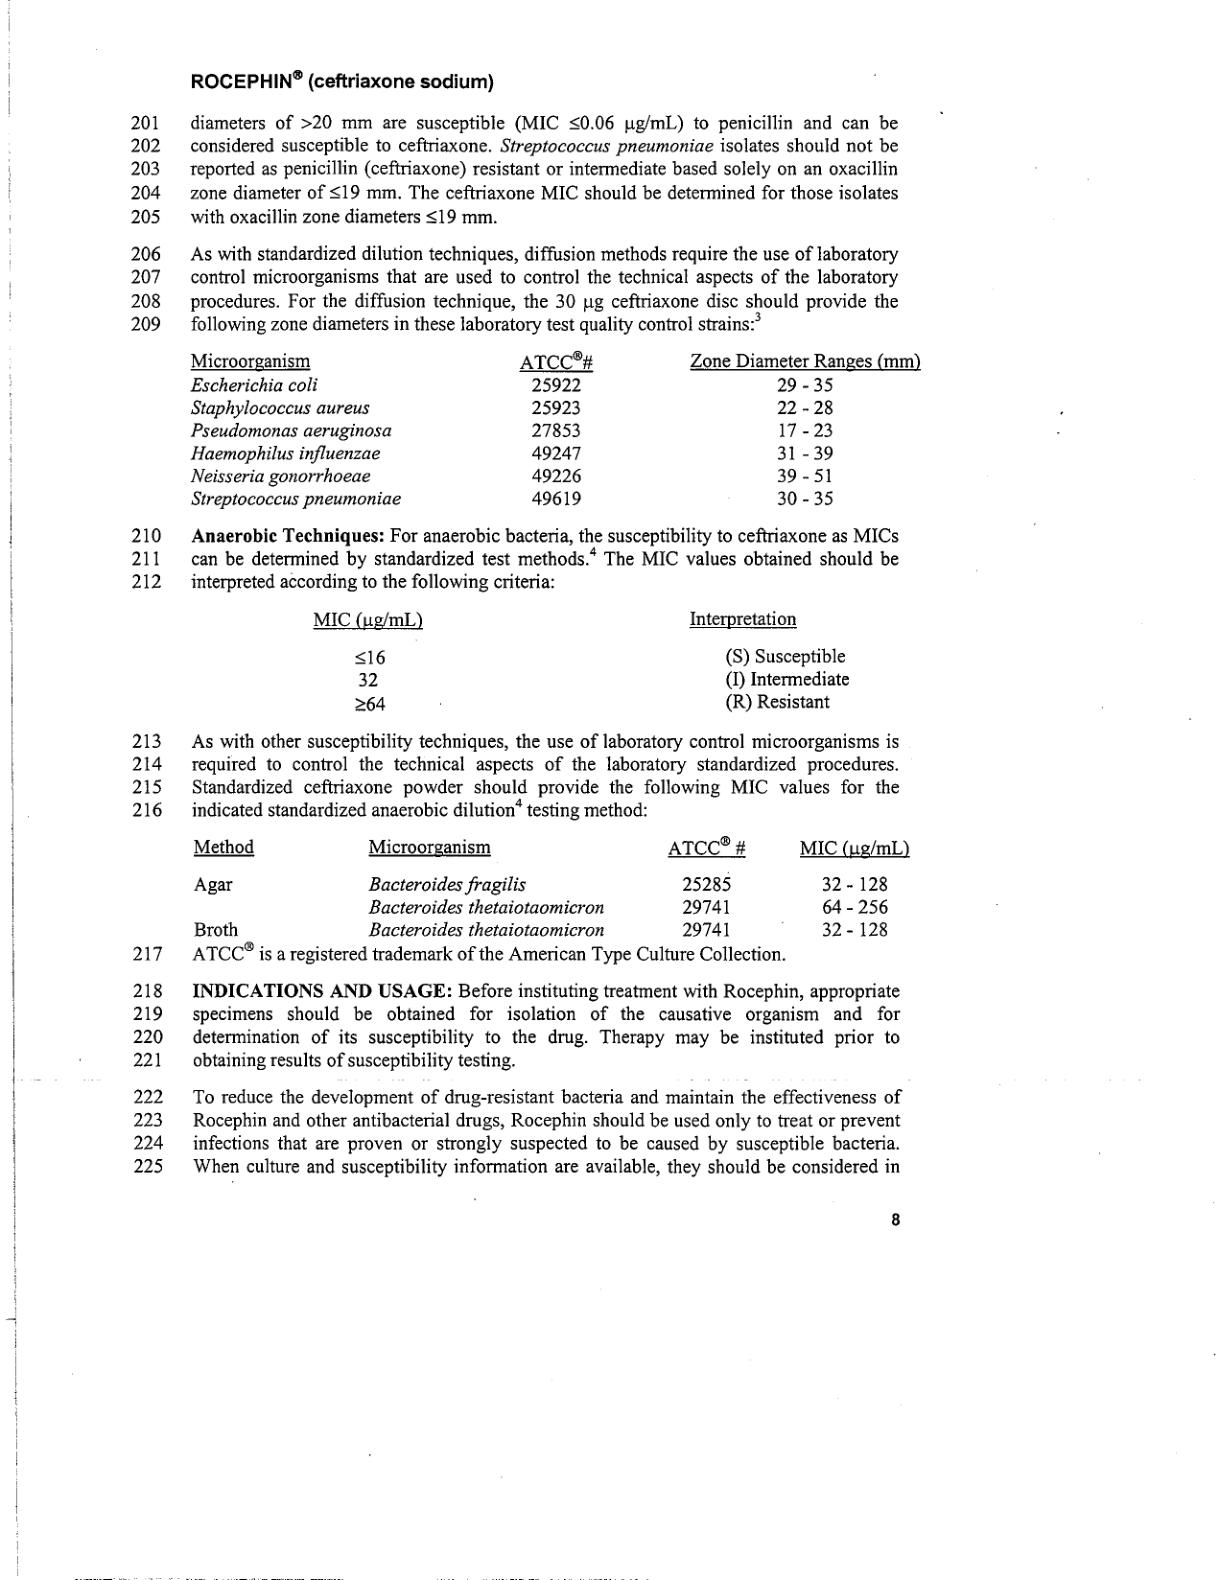nolines: (188, 350, 921, 504), (191, 837, 909, 942), (311, 607, 852, 714)
